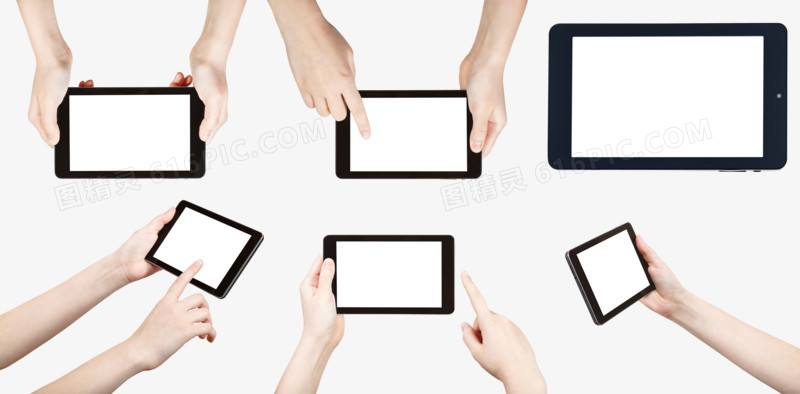pad: (289, 218, 540, 376), (18, 17, 239, 193), (281, 21, 509, 186), (81, 196, 270, 378), (558, 211, 684, 333)
